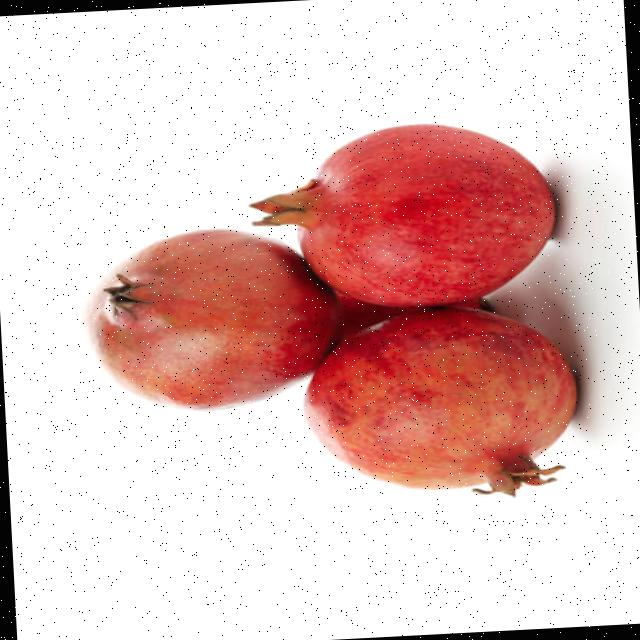Ripe: (243, 115, 562, 315), (296, 298, 584, 511), (73, 223, 300, 422)
